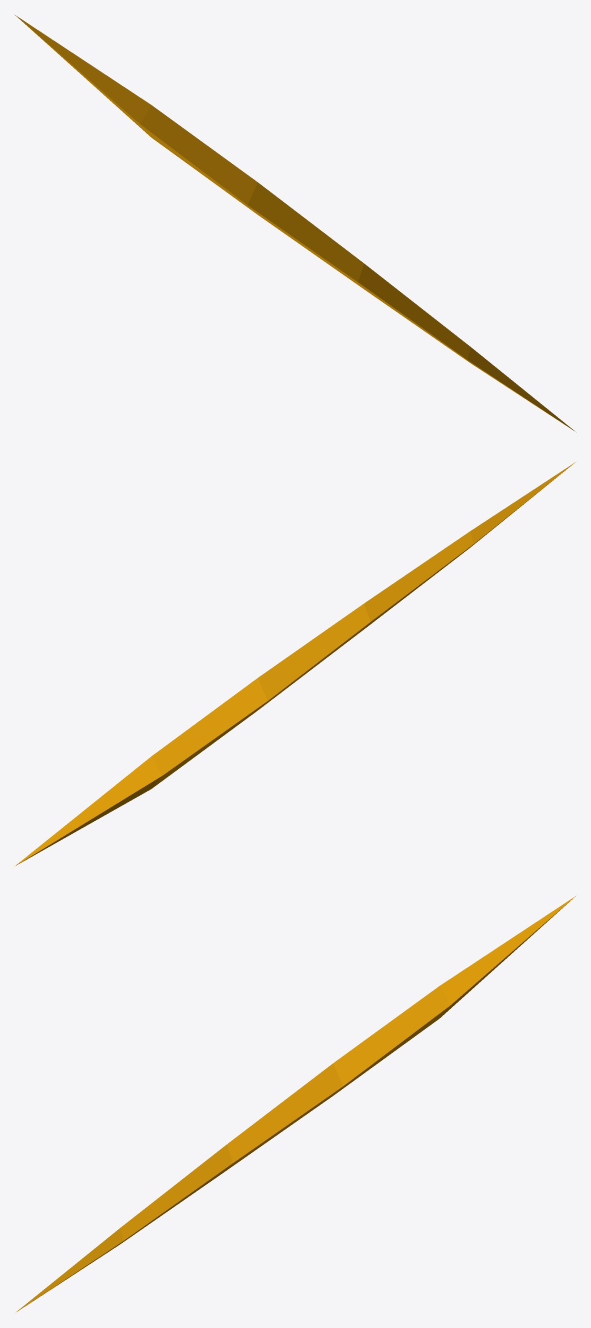
Rendered from Javelin.fbx.
3 views of the same model, one above another, from view 1: azimuth 30°, elevation 25°; view 2: azimuth 150°, elevation 25°; view 3: azimuth 330°, elevation 25° (orthographic).
Parts seen in each view (by area): view 1: Javelin; view 2: Javelin; view 3: Javelin.
Boxes of the visible parts, <box> form: Javelin: <box>15,15,574,430</box>; Javelin: <box>14,462,575,866</box>; Javelin: <box>16,896,575,1311</box>.
Bounding box in the file's own units: 0.3518 × 0.5011 × 15.35.
